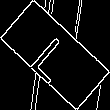L_NE: (27, 26, 83, 84)
